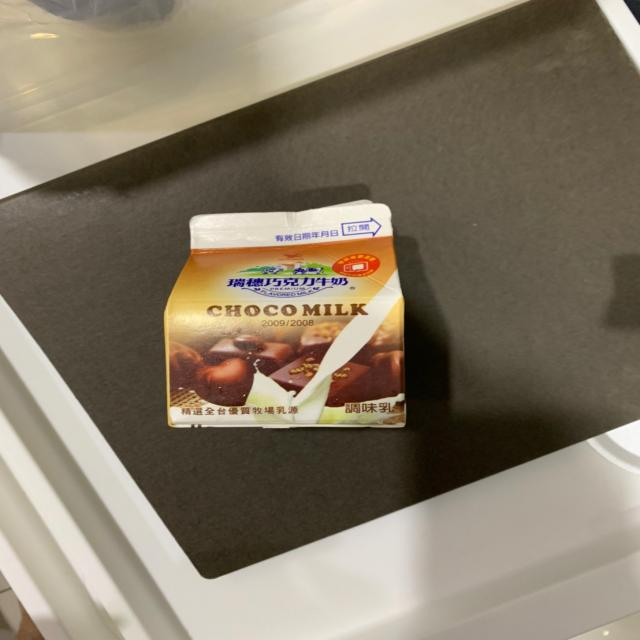non_white_jug: (137, 183, 420, 440)
